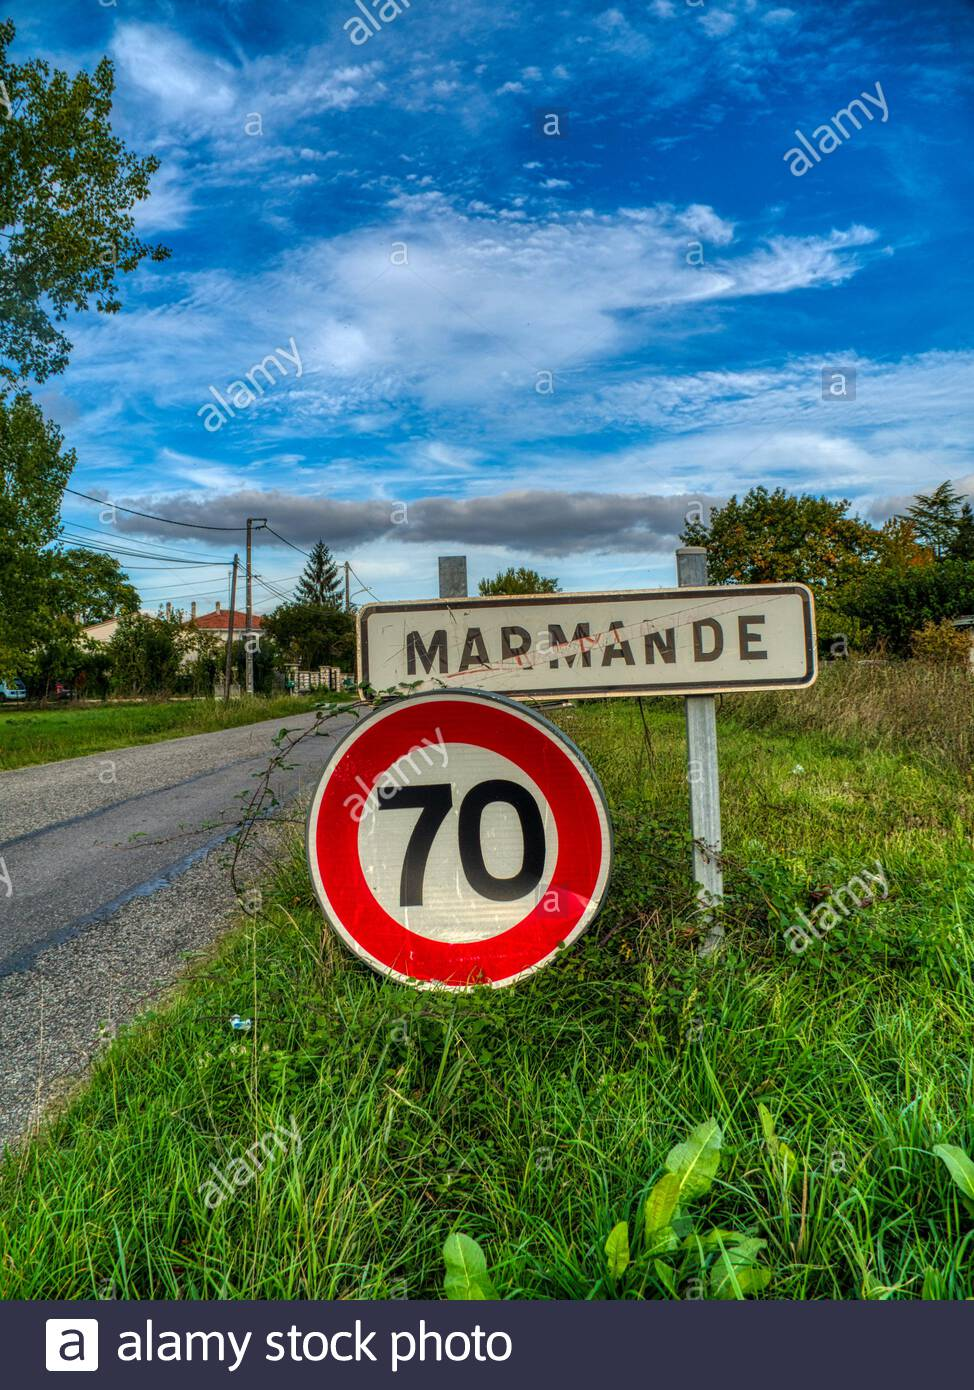speed_limit_70: (310, 699, 614, 987)
